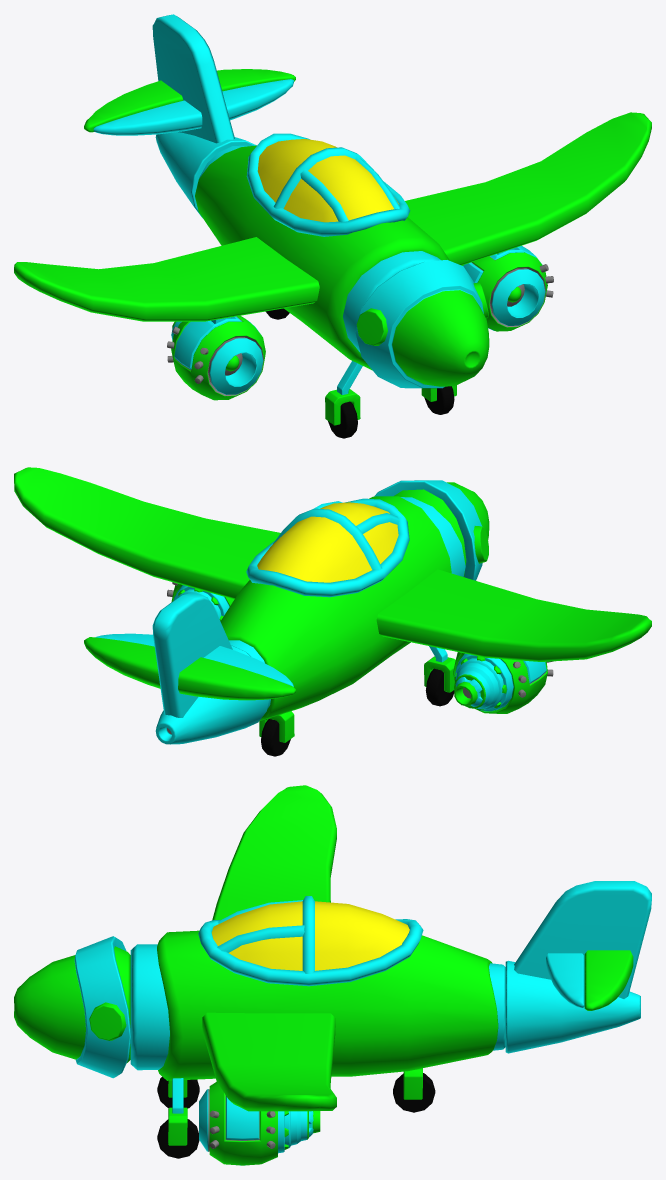
3 views of the same model, one above another, from view 1: azimuth 30°, elevation 25°; view 2: azimuth 150°, elevation 25°; view 3: azimuth 270°, elevation 25° (orthographic).
Parts seen in each view (by area): view 1: Body11_A, Wing11_L, Wing11_R, Fin11, Propeller11, Spurt11_R, Spurt11_L, Body11_C, Body11_D; view 2: Body11_A, Wing11_L, Fin11, Wing11_R, Spurt11_R, Propeller11, Body11_C, Body11_B, Spurt11_L; view 3: Body11_A, Fin11, Wing11_L, Propeller11, Wing11_R, Spurt11_L, Body11_D, Body11_B, Body11_C.
Boxes of the visible parts, x1=… form: Body11_A: x1=195, y1=133, x2=449, y2=370; Wing11_L: x1=405, y1=112, x2=651, y2=265; Wing11_R: x1=14, y1=237, x2=319, y2=321; Fin11: x1=84, y1=14, x2=295, y2=218; Propeller11: x1=355, y1=260, x2=489, y2=388; Spurt11_R: x1=167, y1=315, x2=265, y2=400; Spurt11_L: x1=462, y1=245, x2=553, y2=331; Body11_C: x1=325, y1=361, x2=362, y2=438; Body11_D: x1=421, y1=385, x2=456, y2=414; Body11_A: x1=220, y1=496, x2=465, y2=720; Wing11_L: x1=14, y1=467, x2=280, y2=599; Fin11: x1=84, y1=593, x2=295, y2=744; Wing11_R: x1=376, y1=569, x2=651, y2=661; Spurt11_R: x1=453, y1=652, x2=553, y2=713; Propeller11: x1=374, y1=480, x2=489, y2=580; Body11_C: x1=424, y1=646, x2=455, y2=706; Body11_B: x1=259, y1=711, x2=294, y2=756; Spurt11_L: x1=167, y1=582, x2=233, y2=621; Body11_A: x1=130, y1=896, x2=505, y2=1080; Fin11: x1=505, y1=881, x2=651, y2=1053; Wing11_L: x1=202, y1=1012, x2=336, y2=1111; Propeller11: x1=14, y1=936, x2=131, y2=1078; Wing11_R: x1=212, y1=785, x2=336, y2=920; Spurt11_L: x1=199, y1=1081, x2=320, y2=1165; Body11_D: x1=157, y1=1078, x2=199, y2=1158; Body11_B: x1=393, y1=1068, x2=435, y2=1112; Body11_C: x1=157, y1=1076, x2=199, y2=1108.
Size of the model in its own units: 19.37 by 7.2 by 16.66.
